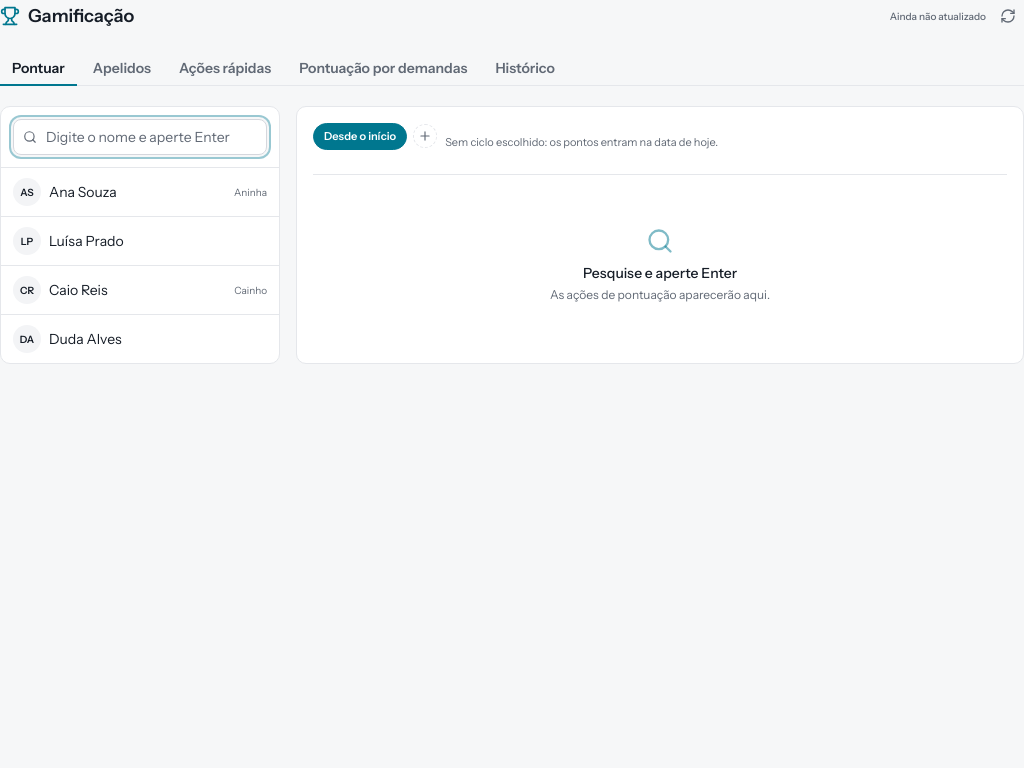
resetar apelidos em massa › por padrão pega todo mundo que tem apelido
Step 1. Click the button "Apelidos" → {"x": 122, "y": 69}, box [81,52,163,86]
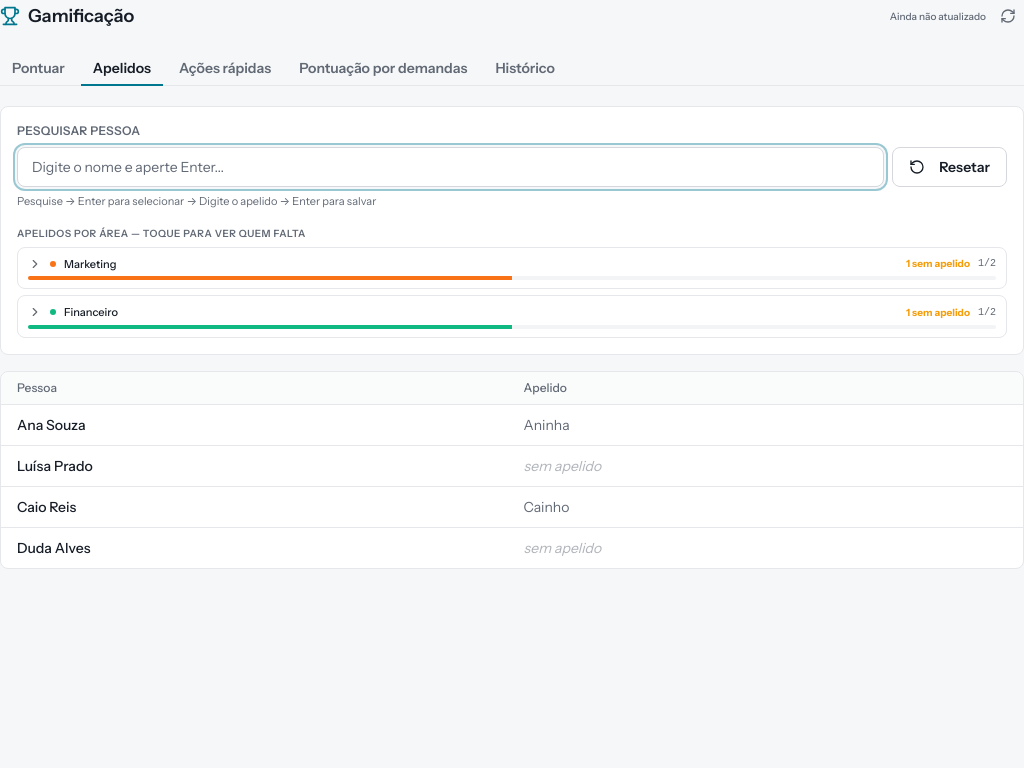
Step 2. Click the button "Resetar" → {"x": 950, "y": 167}, box [892,147,1007,187]
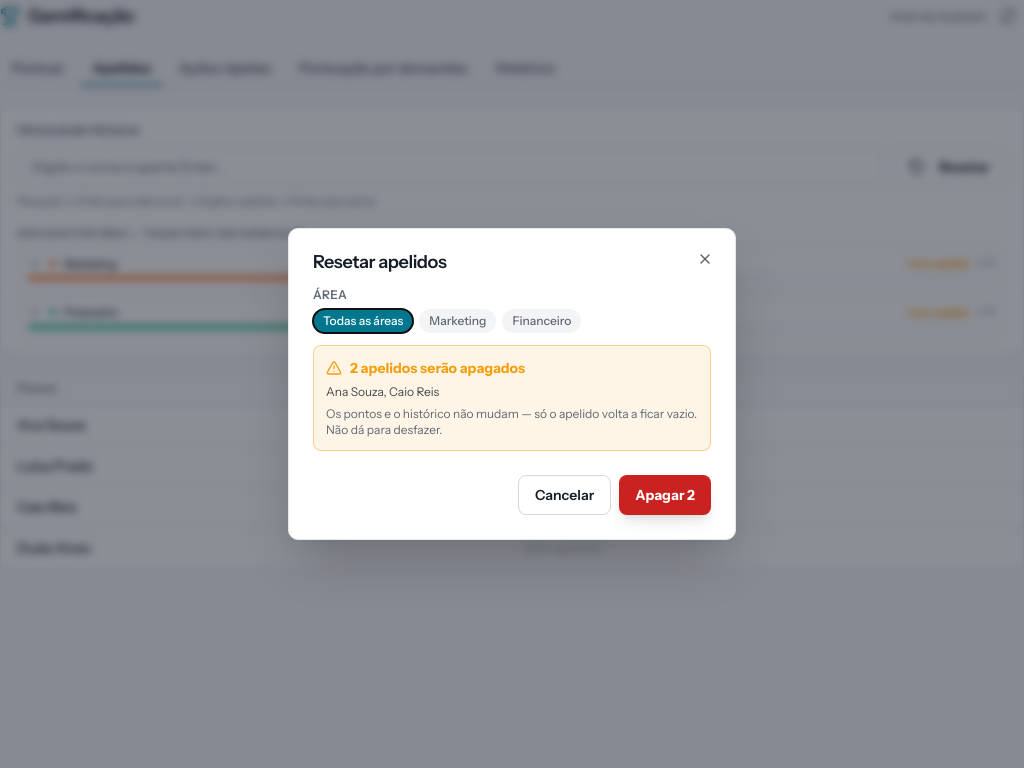
Result: the text "2 apelidos serão apagados" is shown at [326,359,525,377]
Result: the text "Ana Souza, Caio Reis" is shown at [326,384,439,399]
